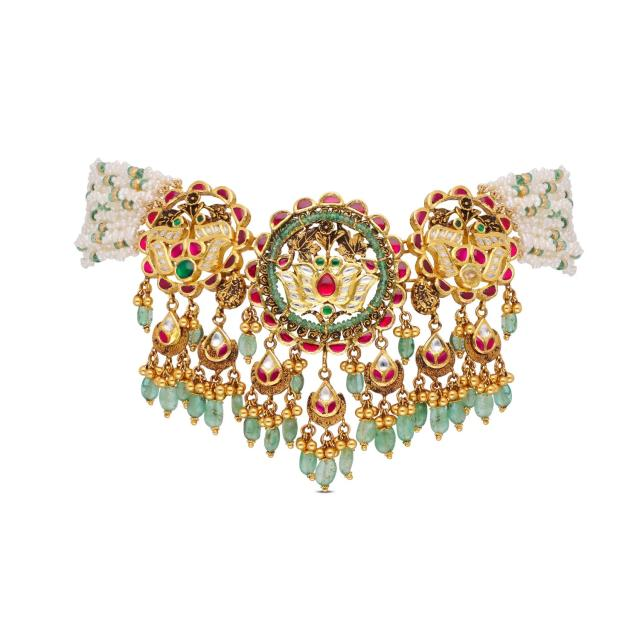missing gem: (461, 264, 480, 288), (169, 329, 178, 343), (207, 344, 216, 357)
